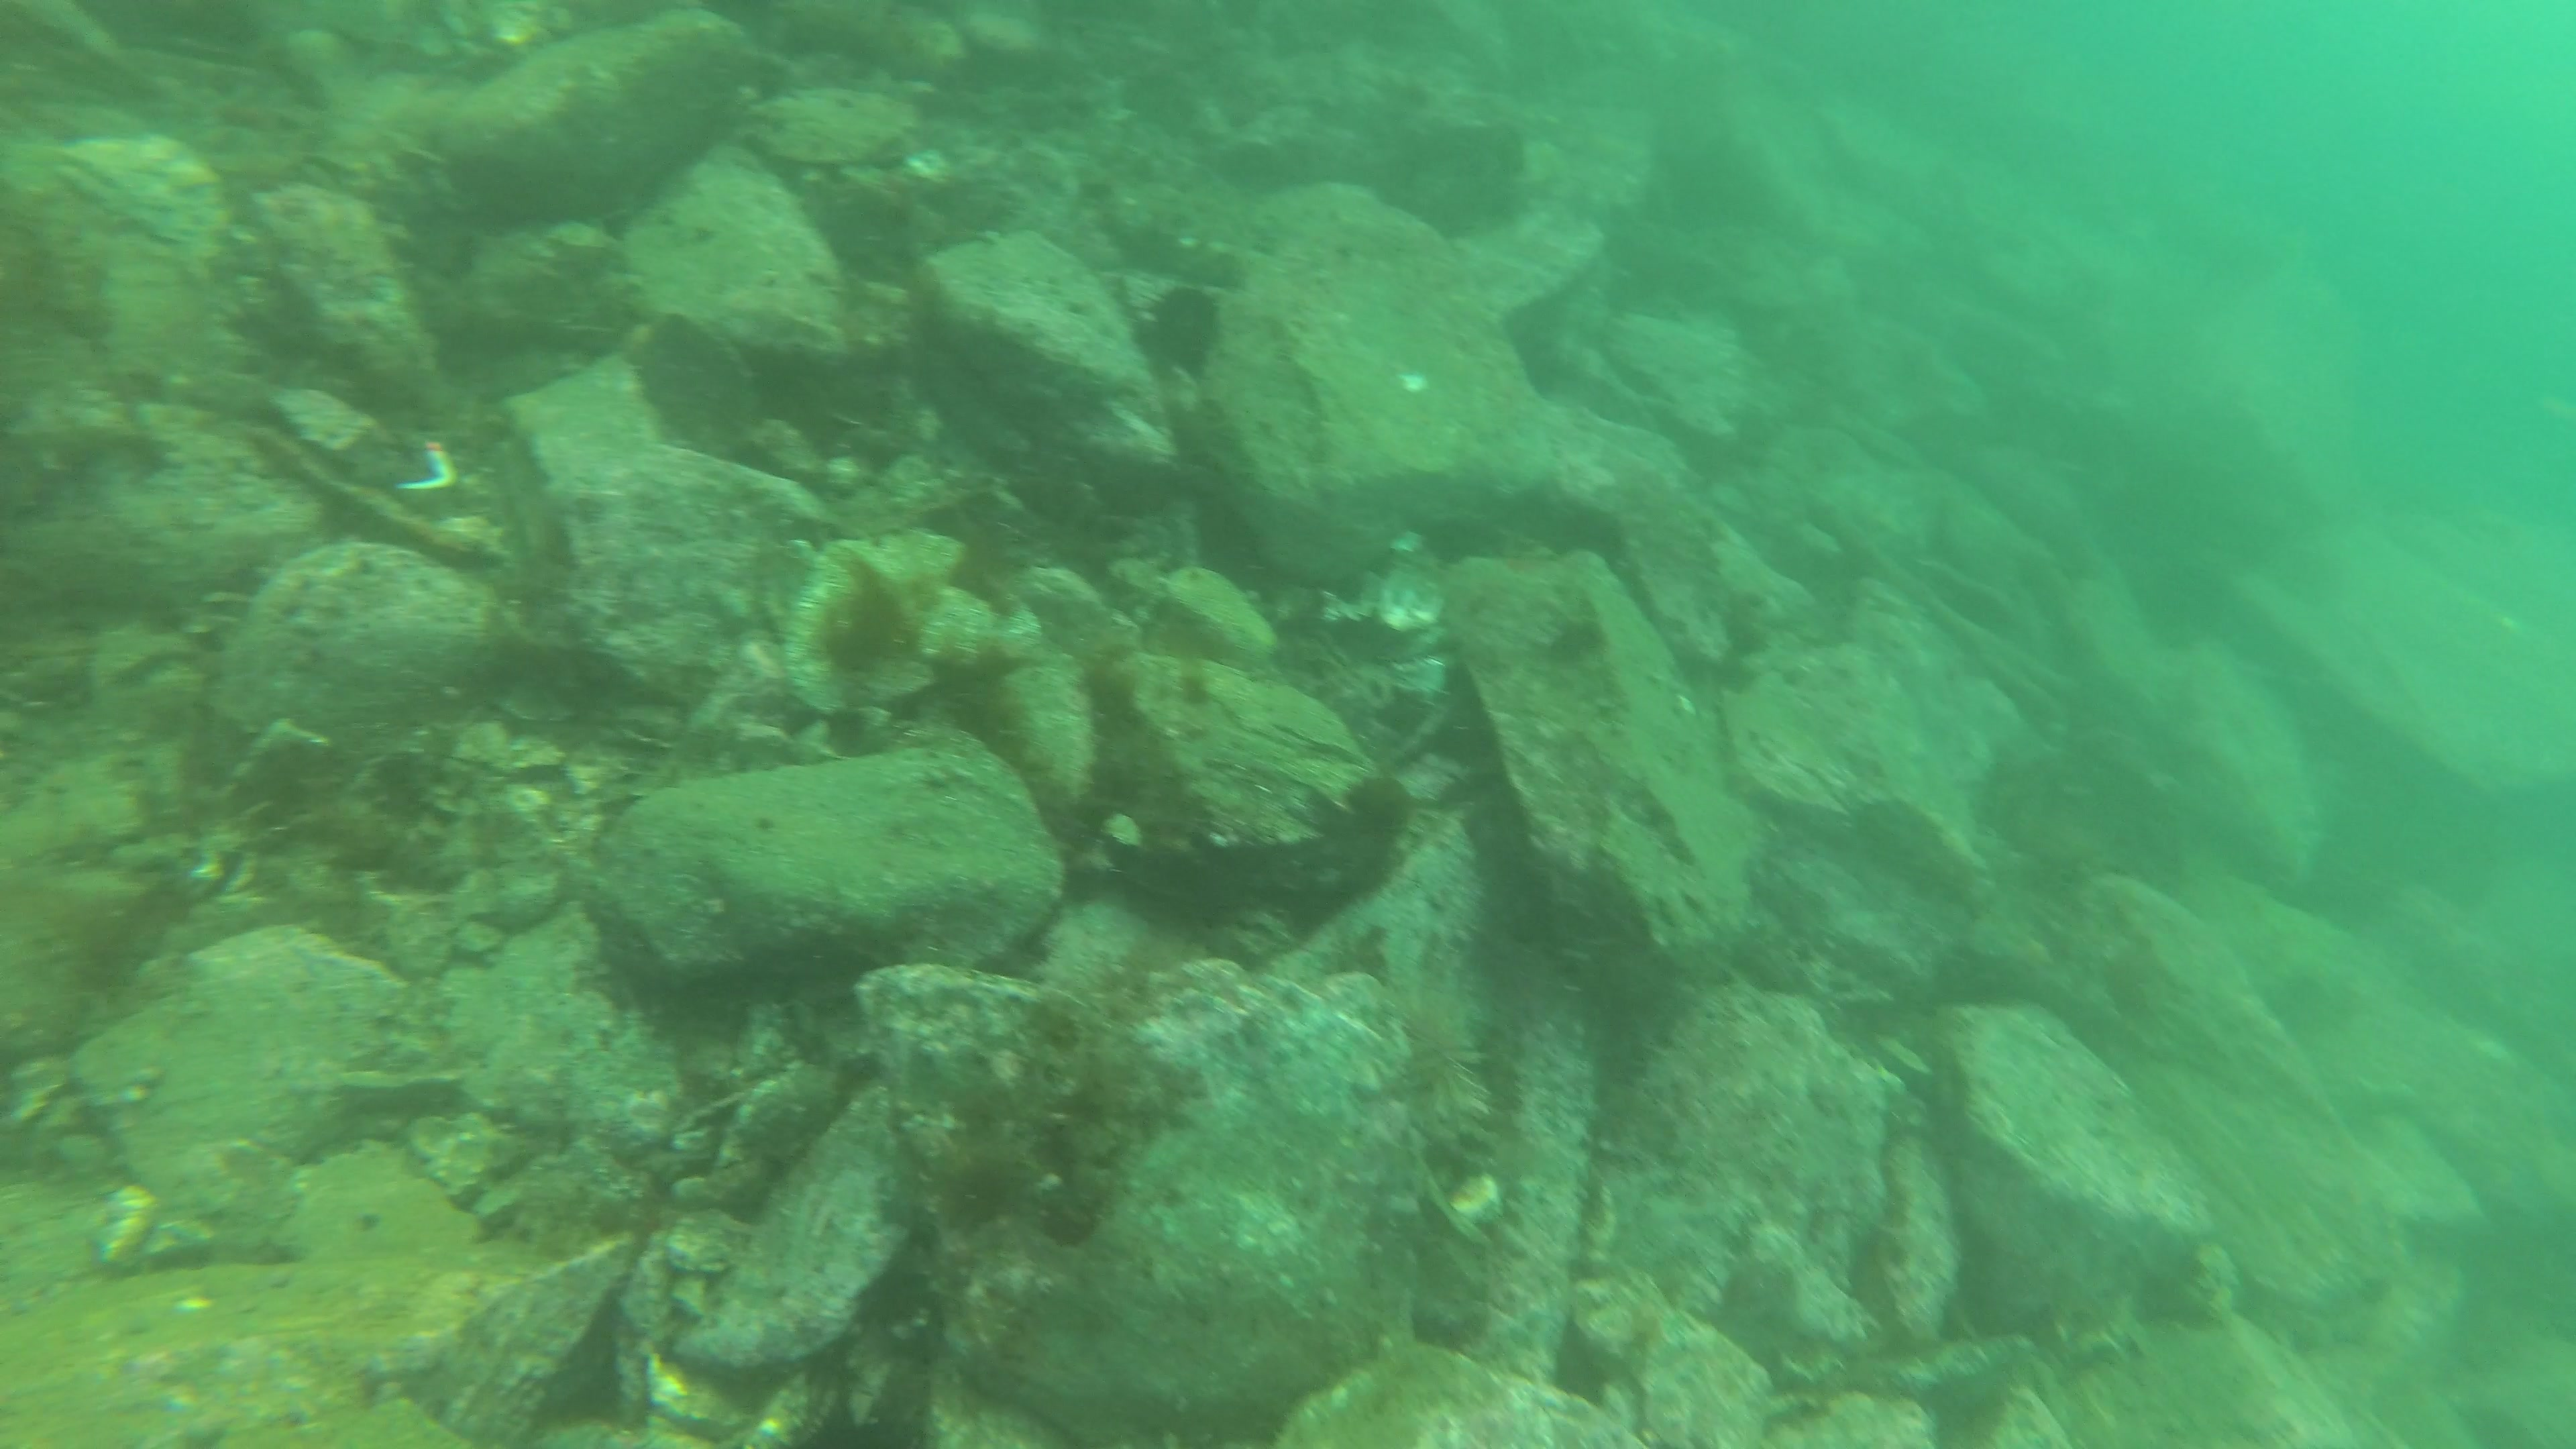echinus: (1403, 998, 1495, 1146), (1146, 292, 1231, 375)
